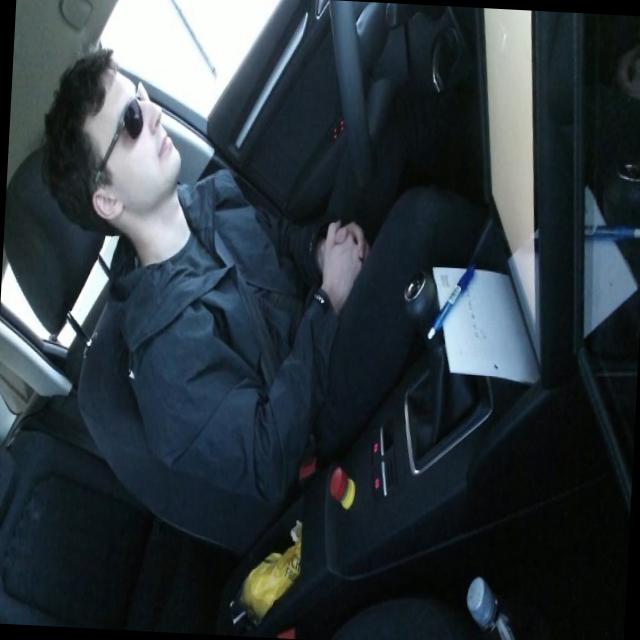pen: (426, 260, 476, 342)
